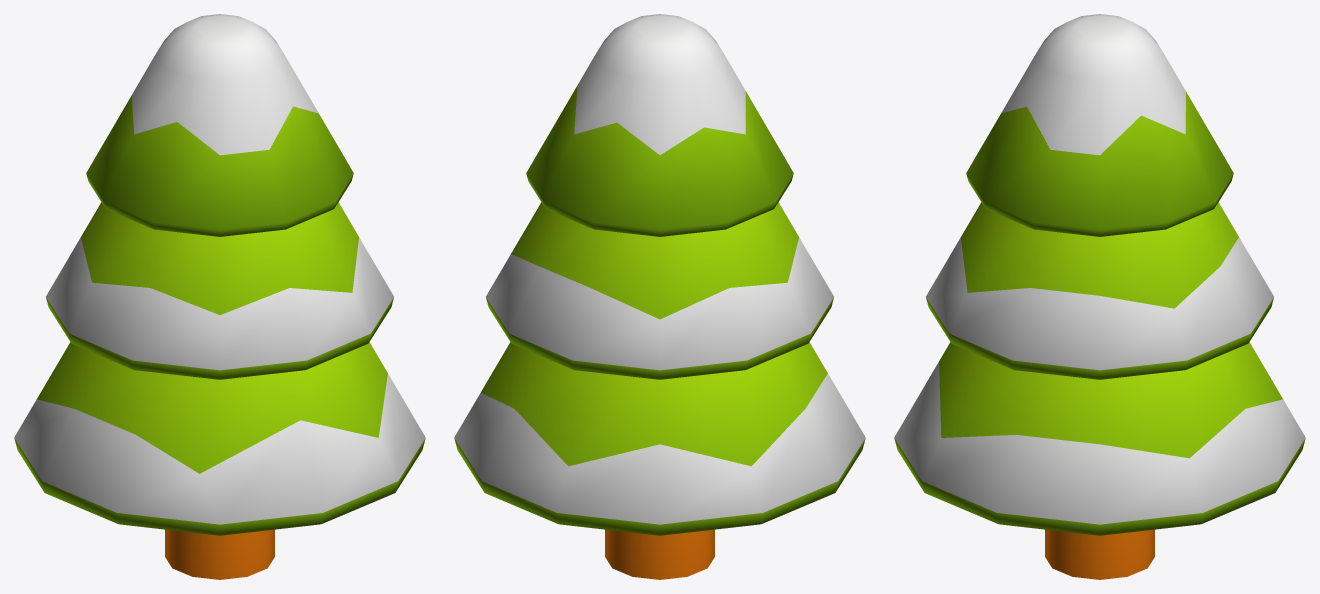
Rendered from Plant_Tree_Ice_01.fbx.
3 views of the same model, side by side, from view 1: azimuth 30°, elevation 25°; view 2: azimuth 150°, elevation 25°; view 3: azimuth 270°, elevation 25° (orthographic).
Visible parts, largest first — view 1: Plant_Tree_Ice_01; view 2: Plant_Tree_Ice_01; view 3: Plant_Tree_Ice_01.
Boxes of the visible parts, bbox=[...] form: Plant_Tree_Ice_01: bbox=[14, 14, 425, 579]; Plant_Tree_Ice_01: bbox=[454, 14, 865, 579]; Plant_Tree_Ice_01: bbox=[894, 14, 1305, 579].
Size of the model in its own units: 200 by 284 by 200.
